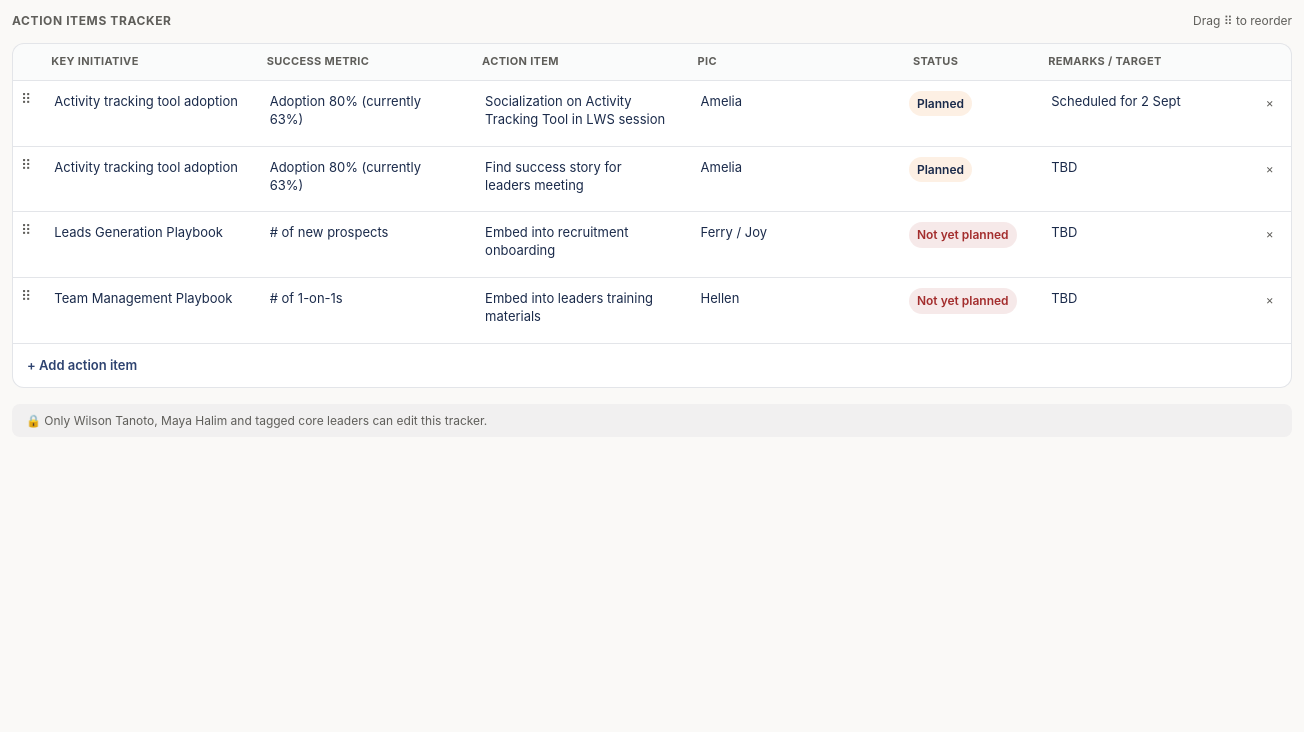
Test: P18.1-T2 AC-6 writing the tracker › a removal that does not land keeps the row
Step 1. Click the button named "Remove row 2" → {"x": 1270, "y": 169}, box left=1256, top=155, right=1284, bottom=183
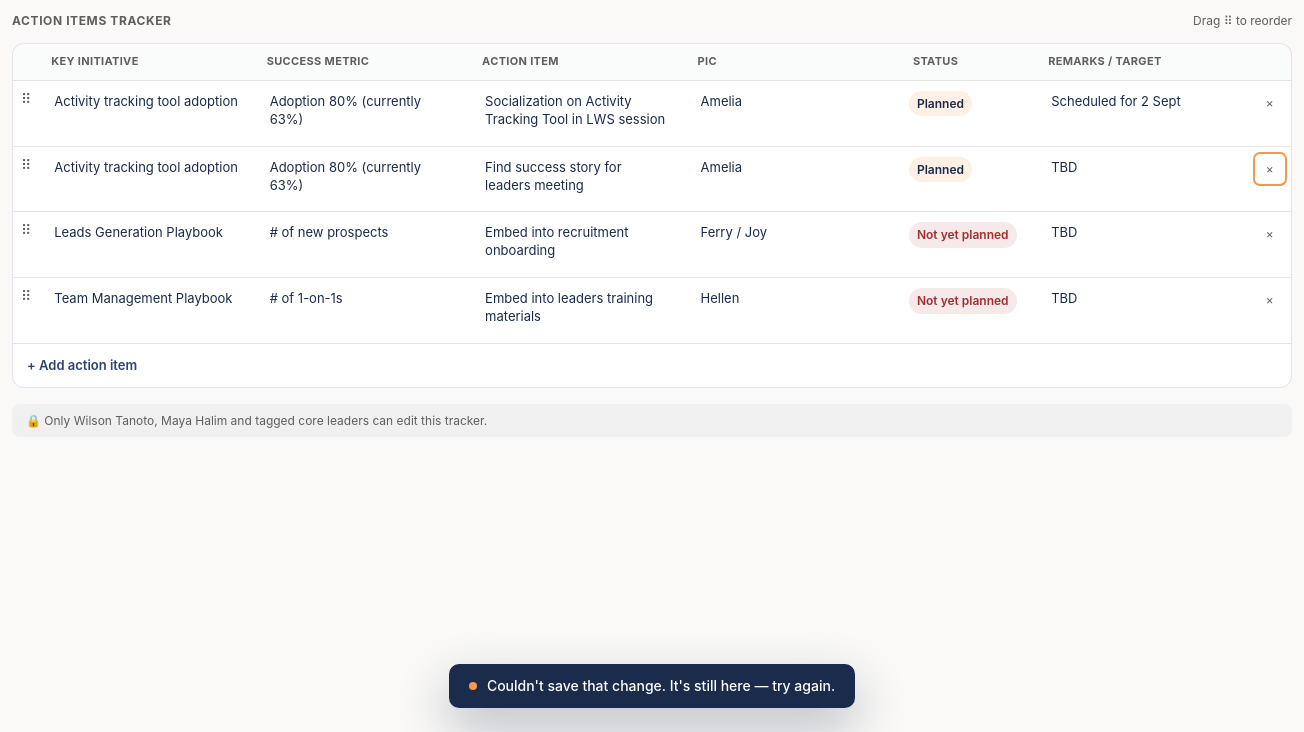
Check: the text "Couldn't save that change. It's still here — try again." is shown, box left=449, top=664, right=855, bottom=708
